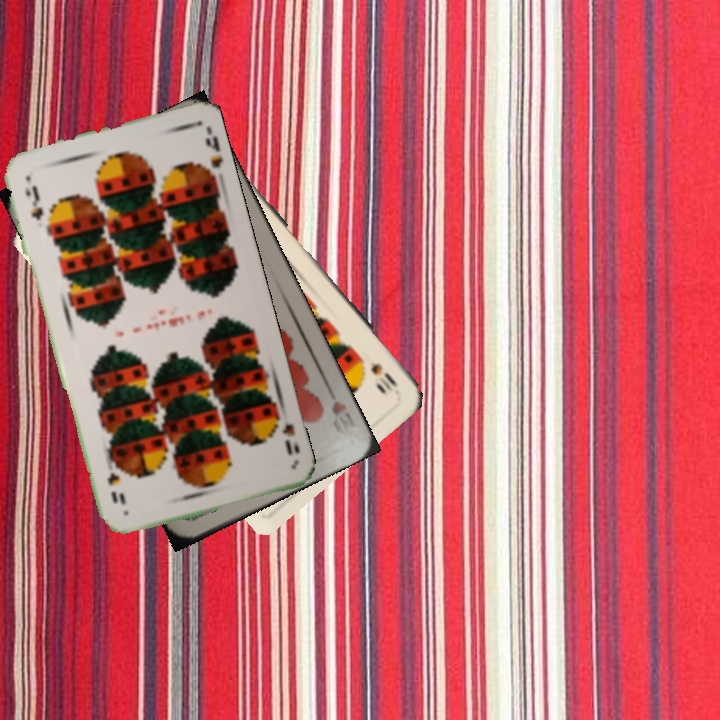H10: (322, 381, 349, 418)
S10: (367, 358, 400, 394)
S9: (266, 406, 298, 458), (21, 180, 46, 223)
